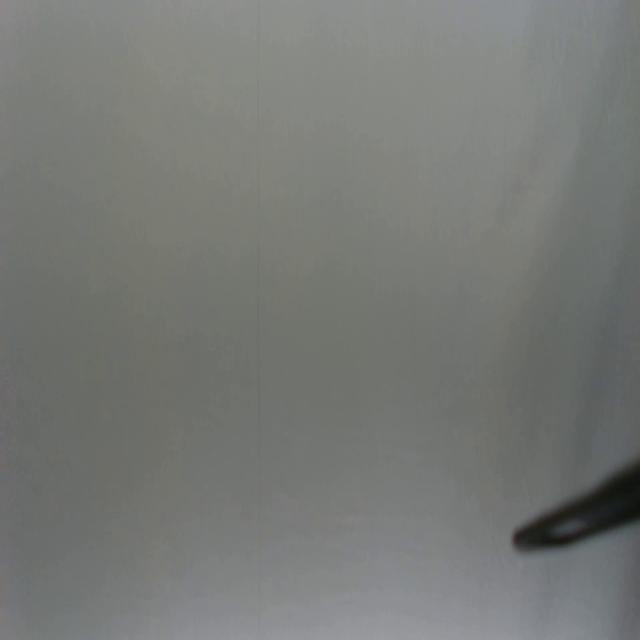crease: (254, 4, 262, 637)
